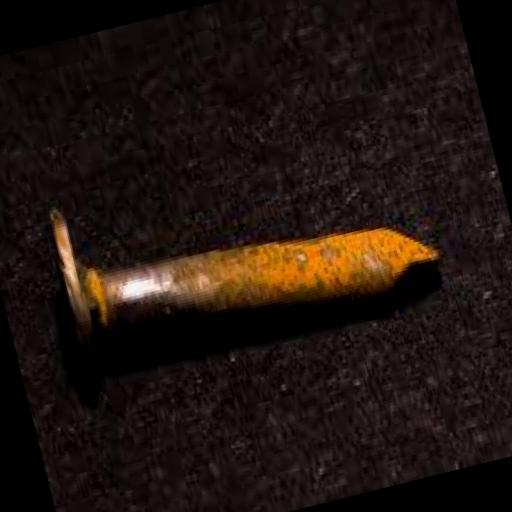segmentation: (42, 214, 440, 388)
